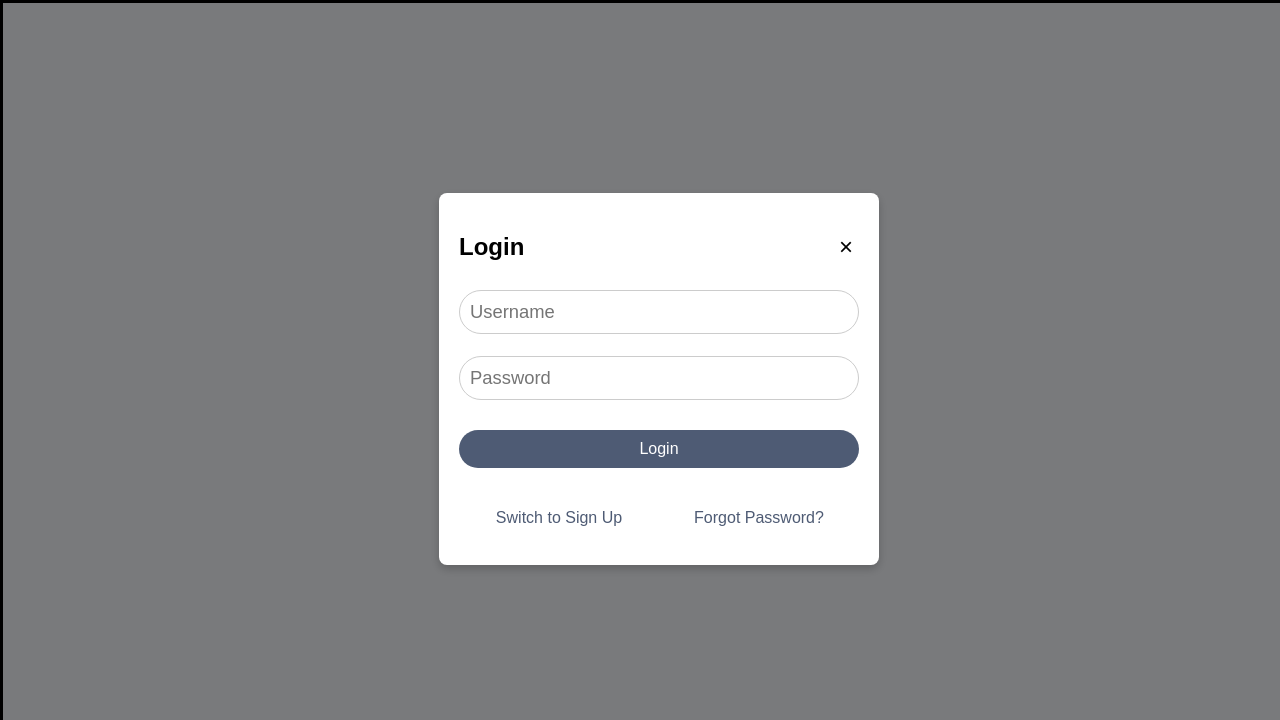
Test: LoginModal › switches to reset password view
The image size is (1280, 720).
Click the button "Forgot Password?": (759, 518) left=659, top=499, right=859, bottom=537
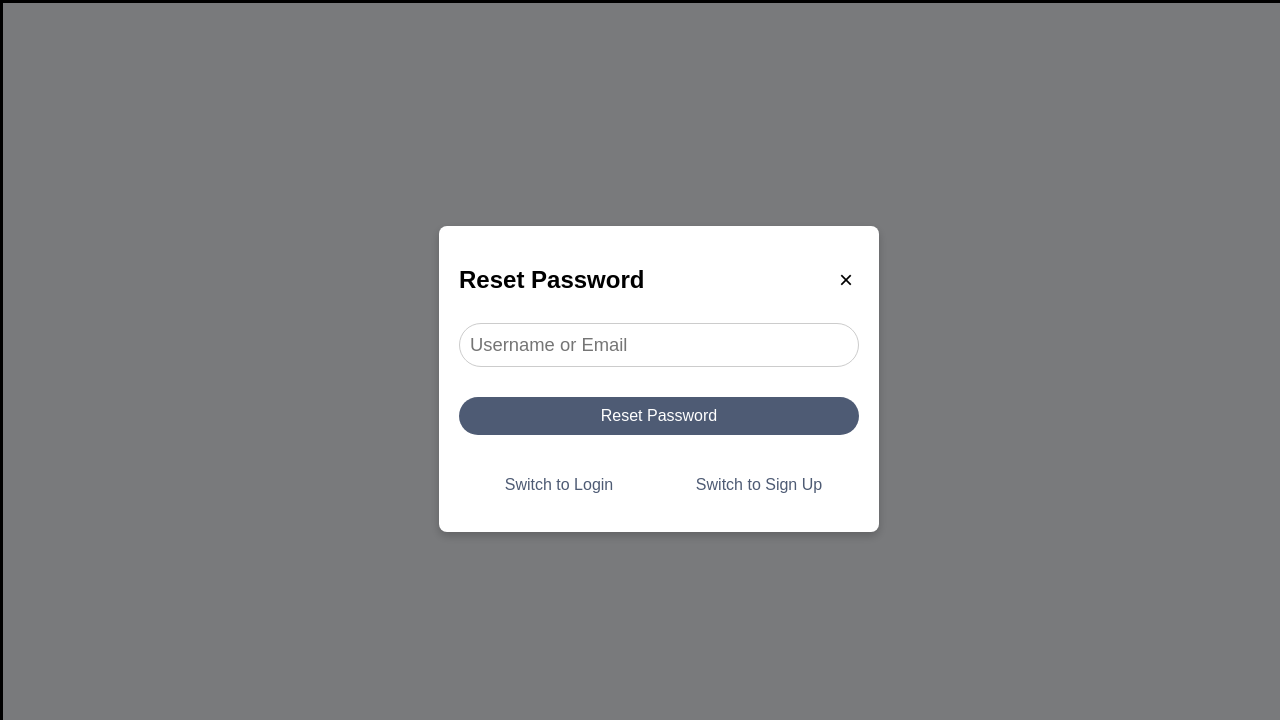
Check: the heading "Reset Password" is shown, box left=459, top=266, right=644, bottom=294
Check: the field with placeholder "Username or Email" is shown, box left=459, top=323, right=859, bottom=367
